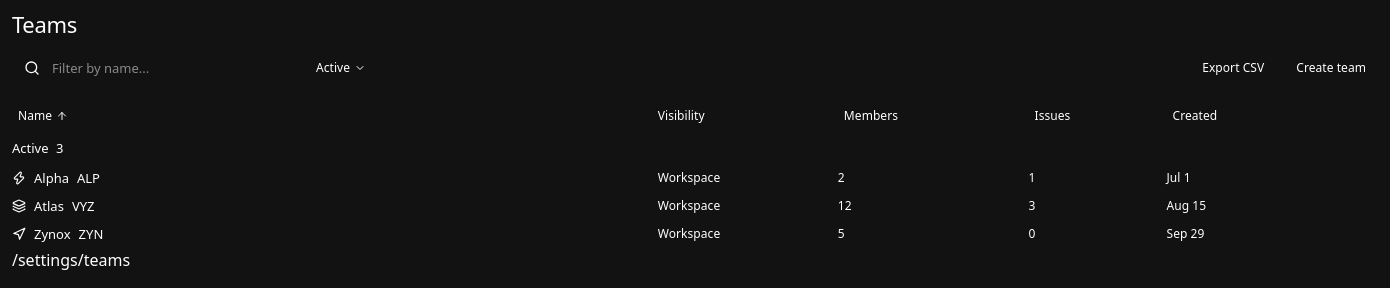
Test: TeamsPage › ordena por search param: Name asc→desc e Members numericamente
Expected: the row "Alpha ALP Workspace 2 1 Jul 1" is shown, [12, 164, 1378, 192]
Expected: the row "Atlas VYZ Workspace 12 3 Aug 15" is shown, [12, 192, 1378, 220]
Click the button "Name".
click(43, 116)  # box [12, 104, 74, 128]
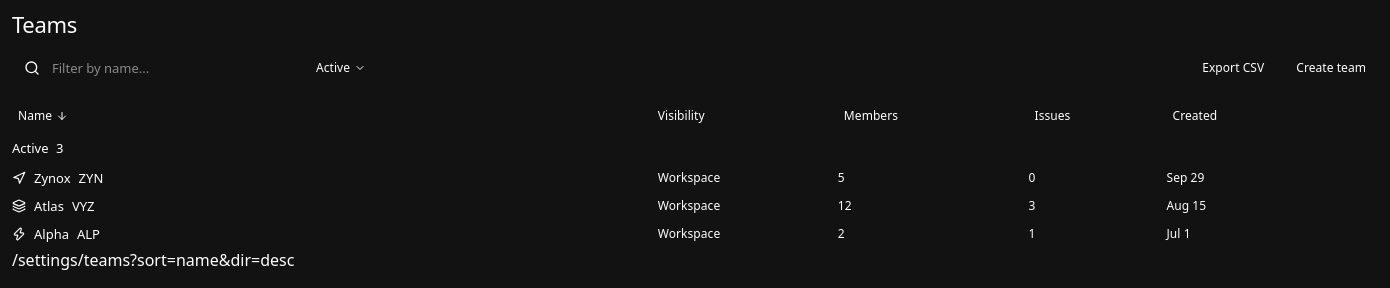
Expected: the row "Zynox ZYN Workspace 5 0 Sep 29" is shown, [12, 164, 1378, 192]
Expected: the text named "Current URL" reads "/settings/teams?sort=name&dir=desc", [12, 249, 294, 271]
Click the button "Members".
click(871, 116)  # box [838, 104, 904, 128]
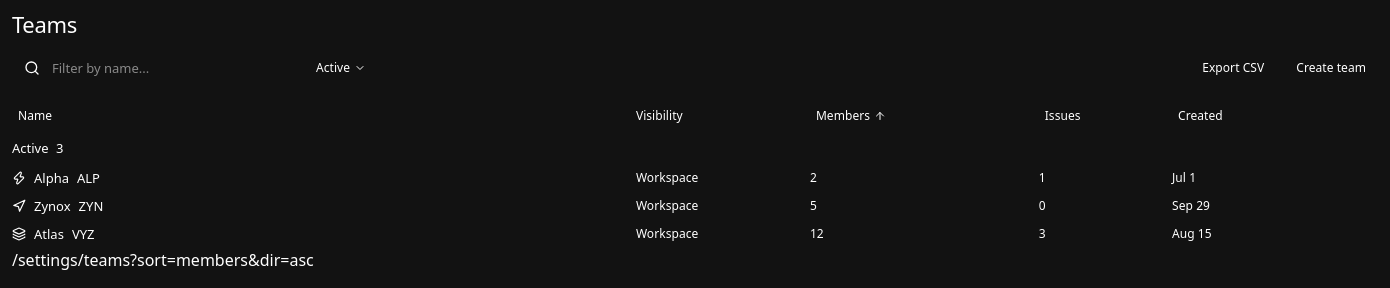
Expected: the row "Alpha ALP Workspace 2 1 Jul 1" is shown, [12, 164, 1378, 192]
Expected: the text named "Current URL" reads "/settings/teams?sort=members&dir=asc", [12, 249, 314, 271]
